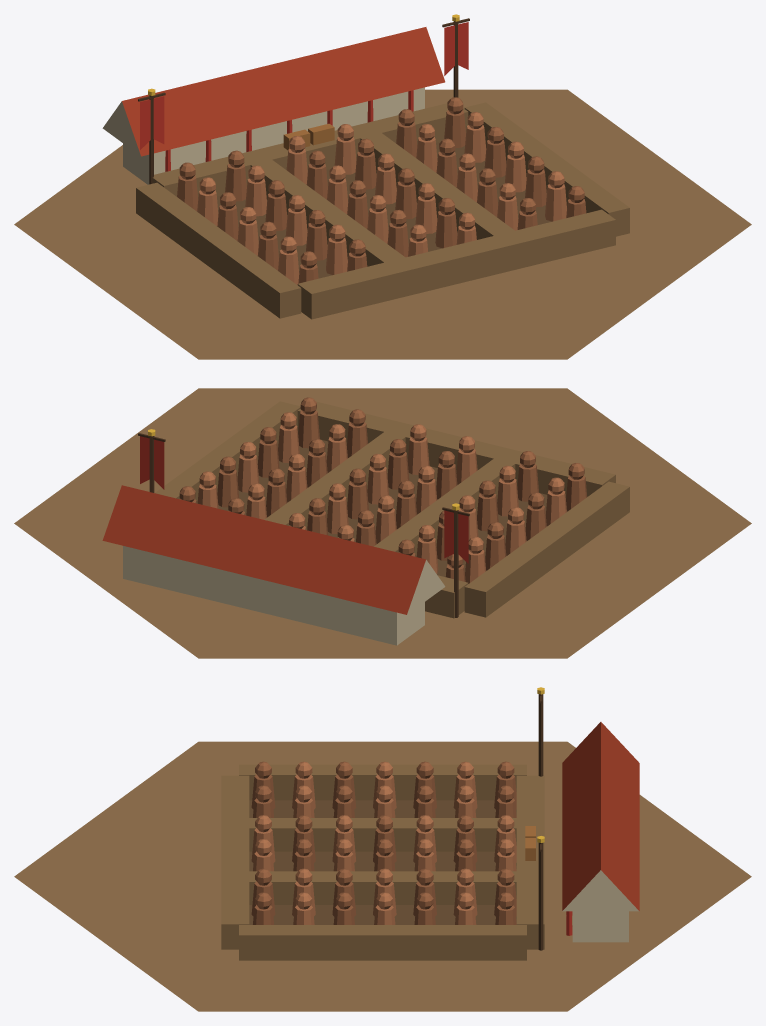
Rendered from wonder_terracotta_army.fbx.
The picture shows the model from 3 angles, top to bottom: view 1: azimuth 30°, elevation 25°; view 2: azimuth 150°, elevation 25°; view 3: azimuth 270°, elevation 25°; orthographic projection.
Visible parts, largest first — view 1: wonder_terracotta_army; view 2: wonder_terracotta_army; view 3: wonder_terracotta_army.
Boxes of the visible parts, <box> form: wonder_terracotta_army: <box>14,14,751,359</box>; wonder_terracotta_army: <box>14,388,751,658</box>; wonder_terracotta_army: <box>14,687,751,1011</box>.
Size of the model in its own units: 182 by 35.6 by 210.
